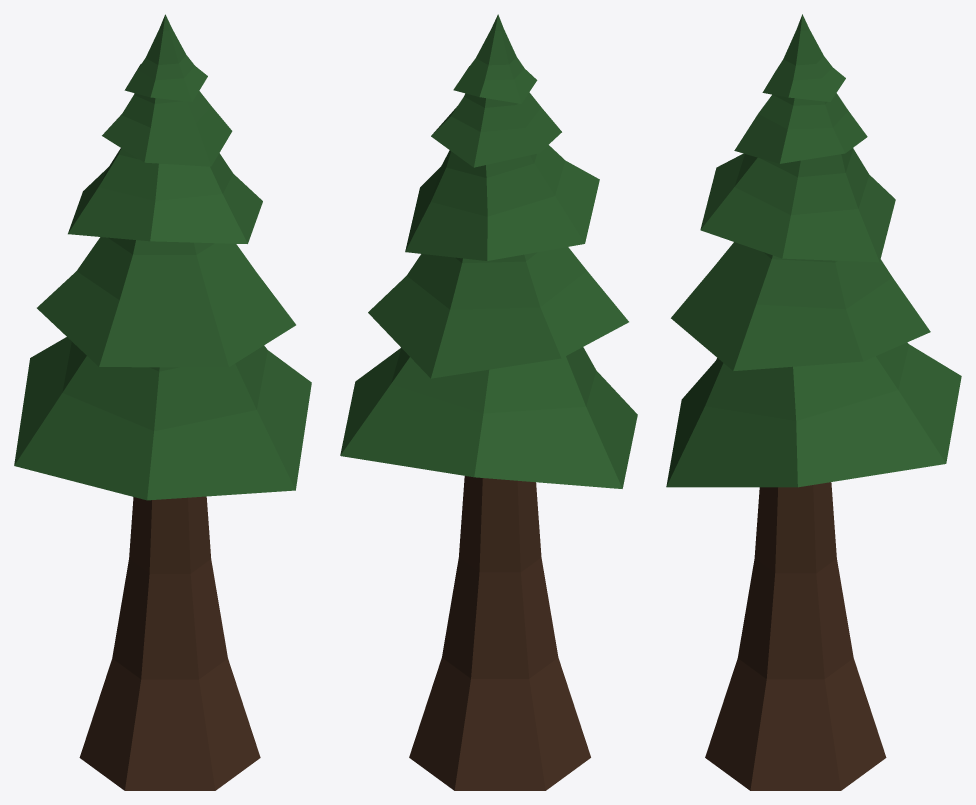
Rendered from pine_tree.glb.
The picture shows the model from 3 angles, left to right: view 1: azimuth 30°, elevation 25°; view 2: azimuth 150°, elevation 25°; view 3: azimuth 270°, elevation 25°; orthographic projection.
Visible parts, largest first — view 1: Cylinder.021, Cylinder.016, Cylinder.020, Cylinder.019, Cylinder.018, Cylinder.017; view 2: Cylinder.016, Cylinder.021, Cylinder.020, Cylinder.019, Cylinder.018, Cylinder.017; view 3: Cylinder.016, Cylinder.021, Cylinder.020, Cylinder.019, Cylinder.018, Cylinder.017.
Part boxes in pixels (left/top/right/bottom): Cylinder.021: left=14, top=337, right=311, bottom=500; Cylinder.016: left=79, top=496, right=260, bottom=790; Cylinder.020: left=37, top=237, right=295, bottom=367; Cylinder.019: left=68, top=148, right=262, bottom=243; Cylinder.018: left=102, top=91, right=232, bottom=166; Cylinder.017: left=124, top=14, right=207, bottom=101; Cylinder.016: left=409, top=476, right=590, bottom=790; Cylinder.021: left=340, top=347, right=637, bottom=488; Cylinder.020: left=368, top=247, right=628, bottom=378; Cylinder.019: left=405, top=145, right=599, bottom=260; Cylinder.018: left=431, top=92, right=561, bottom=167; Cylinder.017: left=453, top=14, right=537, bottom=103; Cylinder.016: left=705, top=482, right=886, bottom=790; Cylinder.021: left=666, top=342, right=961, bottom=487; Cylinder.020: left=671, top=242, right=930, bottom=370; Cylinder.019: left=700, top=148, right=895, bottom=262; Cylinder.018: left=734, top=93, right=867, bottom=163; Cylinder.017: left=762, top=14, right=845, bottom=101.
Size of the model in its own units: 5.88 by 14.78 by 5.33.
